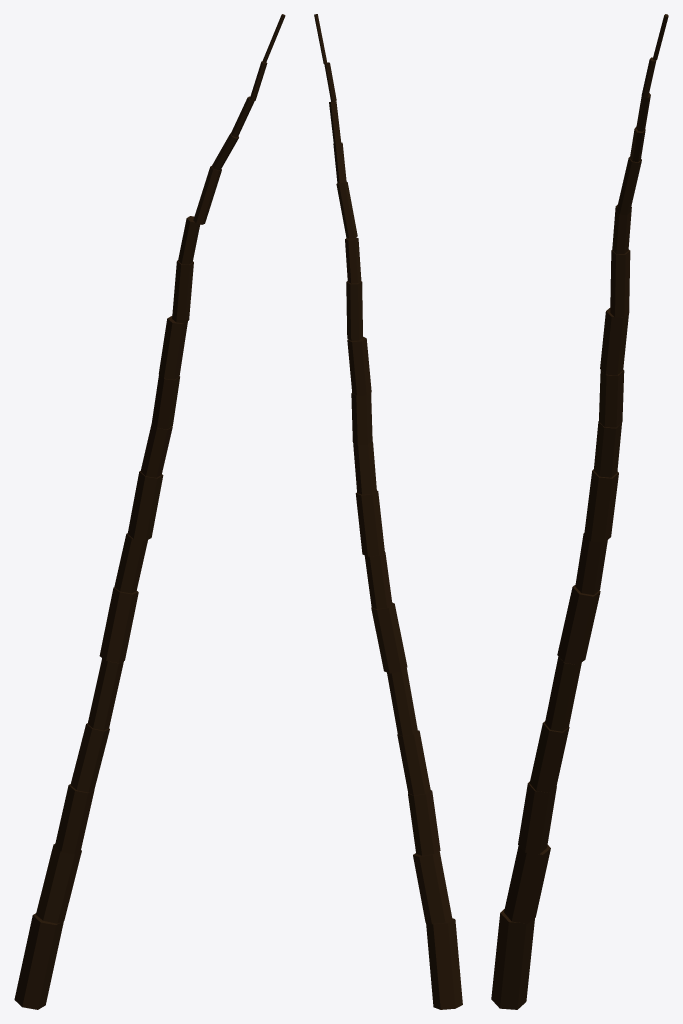
File: tree_558_no_leaf.obj
3 views of the same model, side by side, from view 1: azimuth 30°, elevation 25°; view 2: azimuth 150°, elevation 25°; view 3: azimuth 330°, elevation 25° (orthographic). The views are drawn at different scales.
Visible parts, largest first — view 1: TrunkAndBranches; view 2: TrunkAndBranches; view 3: TrunkAndBranches.
Part boxes in pixels (x1=…): TrunkAndBranches: x1=14, y1=14, x2=285, y2=1009; TrunkAndBranches: x1=314, y1=14, x2=462, y2=1009; TrunkAndBranches: x1=491, y1=14, x2=668, y2=1009.
Bounding box in the file's own units: 1.04 × 4.63 × 0.5498.
